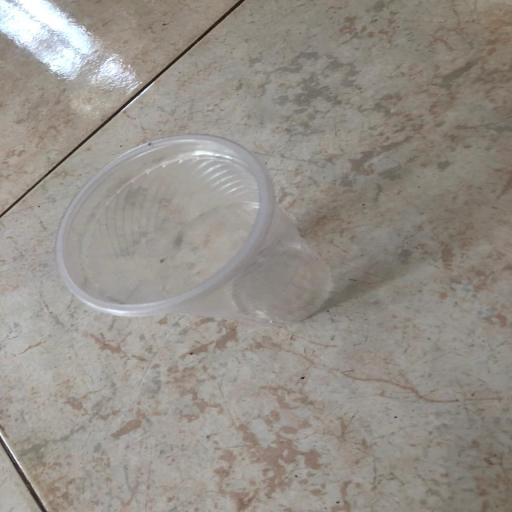waste: (36, 128, 396, 354)
